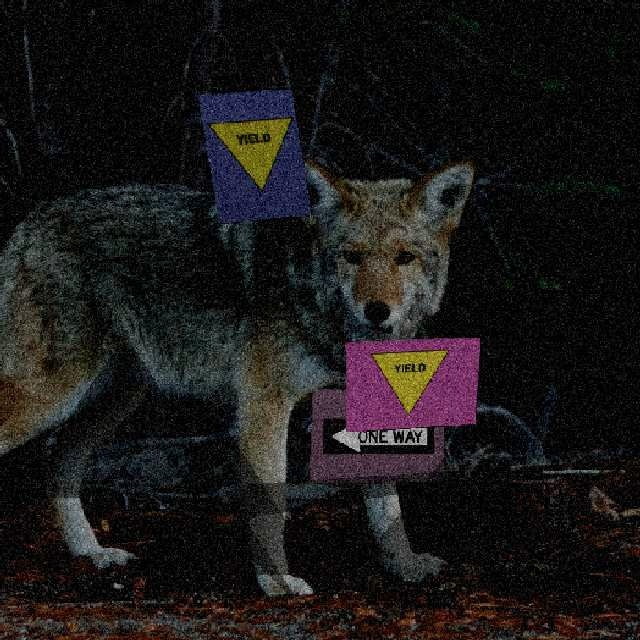ONE_WAY_ left: (322, 418, 434, 453)
YIELD: (206, 112, 303, 198), (369, 349, 449, 417)
